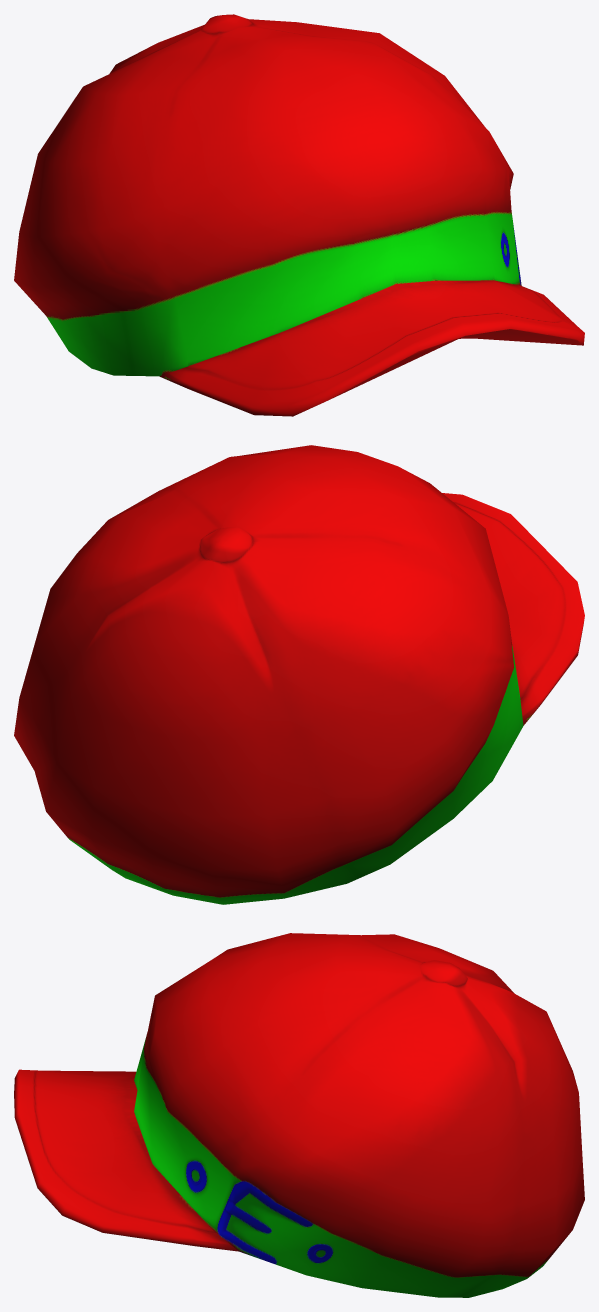
File: Hat_SummerHat.fbx
3 views of the same model, one above another, from view 1: azimuth 30°, elevation 25°; view 2: azimuth 150°, elevation 25°; view 3: azimuth 270°, elevation 25° (orthographic). The views are drawn at different scales.
Visible parts, largest first — view 1: Hat_SummerCap; view 2: Hat_SummerCap; view 3: Hat_SummerCap.
Part boxes in pixels (x1,y1,x2,y2): Hat_SummerCap: (14,14,584,416); Hat_SummerCap: (14,445,584,904); Hat_SummerCap: (14,933,584,1297).
Size of the model in its own units: 30.12 by 22.3 by 38.82.
1 material, 1 textured.
